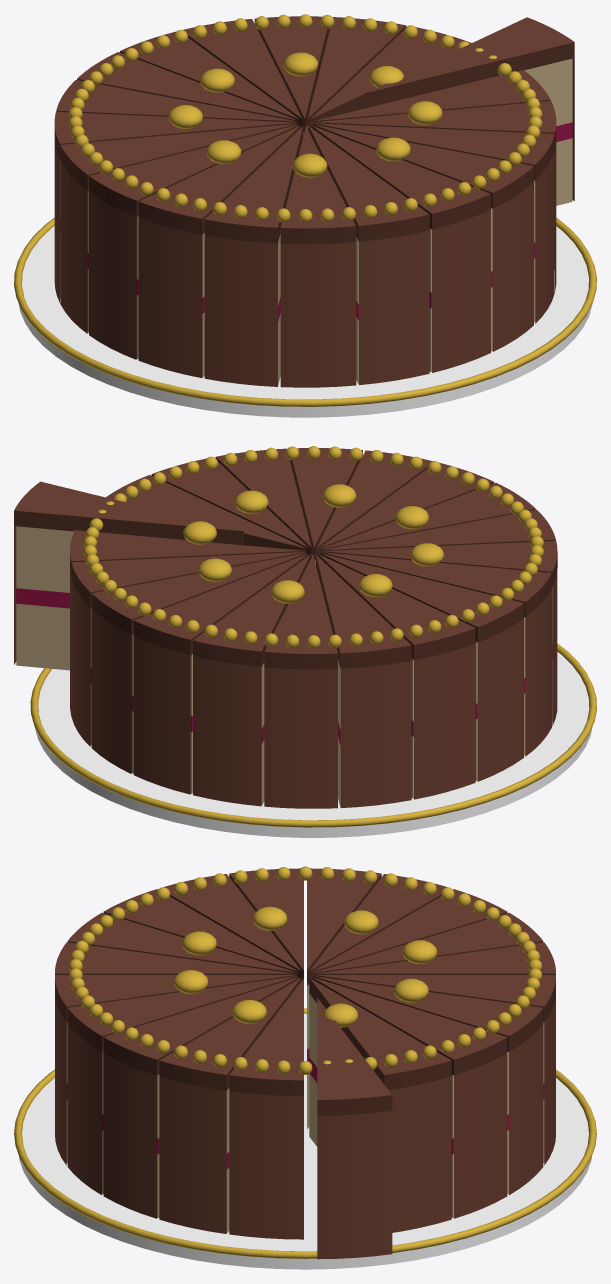
The model's file is torta-30cm-11alto-1p-20porc-chocolate.glb.
3 views of the same model, one above another, from view 1: azimuth 30°, elevation 25°; view 2: azimuth 150°, elevation 25°; view 3: azimuth 270°, elevation 25° (orthographic). The views are drawn at different scales.
Size of the model in its own units: 0.3814 by 0.1316 by 0.365.
